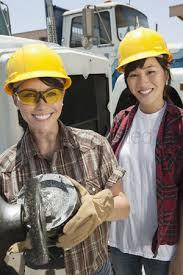Gloves: (56, 184, 115, 248)
Helmet: (3, 44, 75, 90), (114, 25, 174, 74)
